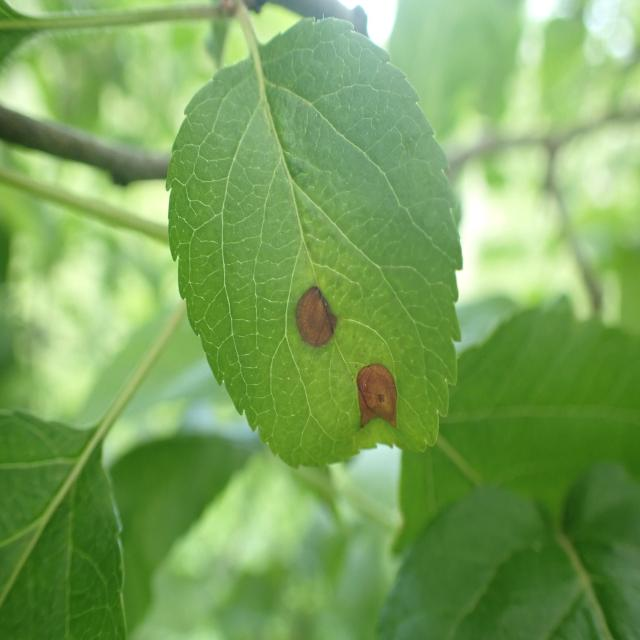Black Rot: (291, 247, 339, 378), (342, 352, 408, 443)
